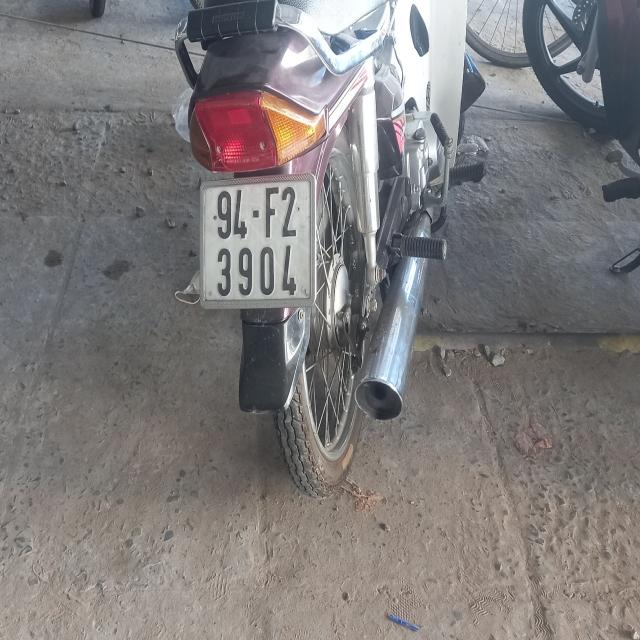0: (260, 247, 276, 295)
2: (282, 186, 296, 237)
3: (218, 247, 231, 297)
4: (282, 245, 296, 295), (235, 190, 248, 239)
9: (238, 247, 253, 297), (217, 191, 232, 238)
F: (265, 187, 278, 237)
